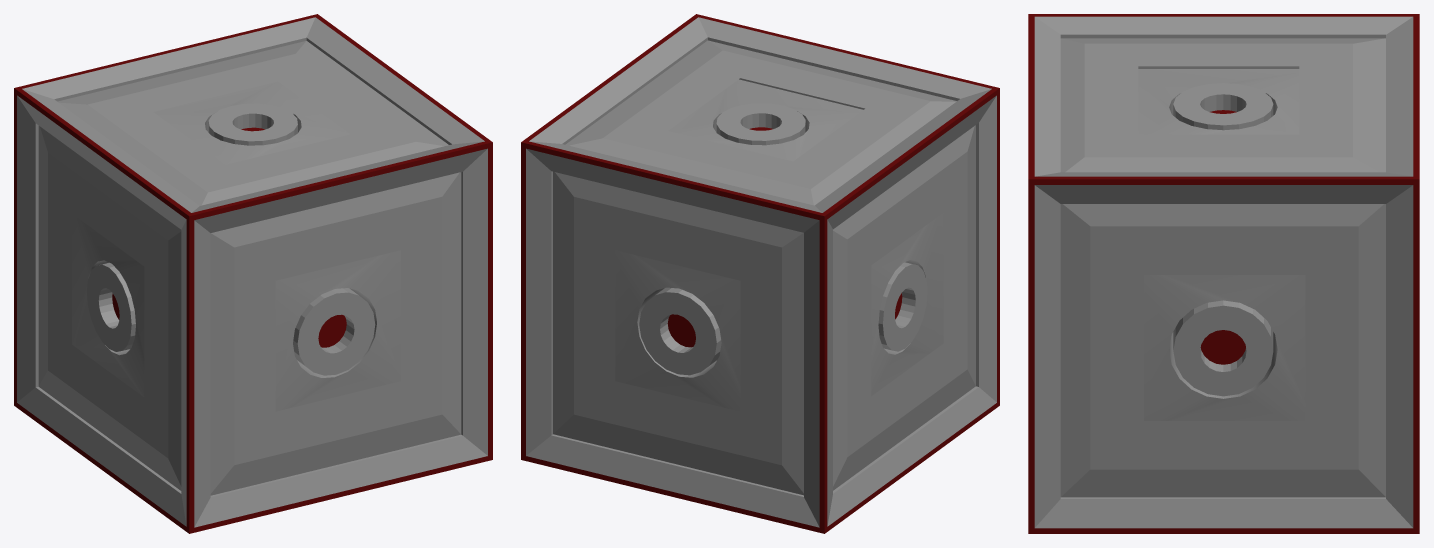
Rendered from Cub1.FBX.
The picture shows the model from 3 angles, left to right: view 1: azimuth 30°, elevation 25°; view 2: azimuth 150°, elevation 25°; view 3: azimuth 270°, elevation 25°; orthographic projection. The views are drawn at different scales.
Visible parts, largest first — view 1: Box001; view 2: Box001; view 3: Box001.
Part boxes in pixels (x1=…): Box001: x1=14, y1=14, x2=492, y2=533; Box001: x1=521, y1=14, x2=999, y2=533; Box001: x1=1028, y1=14, x2=1419, y2=533.
Size of the model in its own units: 105 by 105 by 105.
